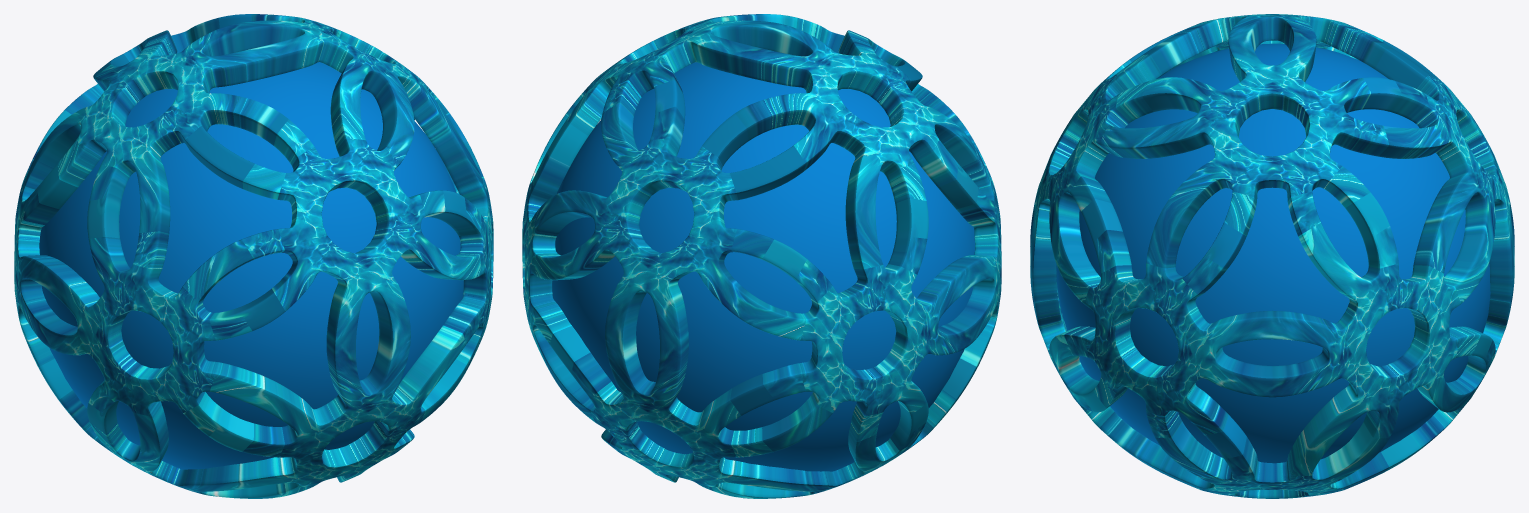
File: quả cầu.fbx
3 views of the same model, side by side, from view 1: azimuth 30°, elevation 25°; view 2: azimuth 150°, elevation 25°; view 3: azimuth 270°, elevation 25° (orthographic).
Parts seen in each view (by area): view 1: Sphere; view 2: Sphere; view 3: Sphere.
Part boxes in pixels (box(x1,y1,x2,y2)): Sphere: box(14, 14, 493, 498); Sphere: box(522, 14, 1001, 498); Sphere: box(1030, 14, 1514, 498).
Size of the model in its own units: 15.91 by 15.91 by 15.91.
